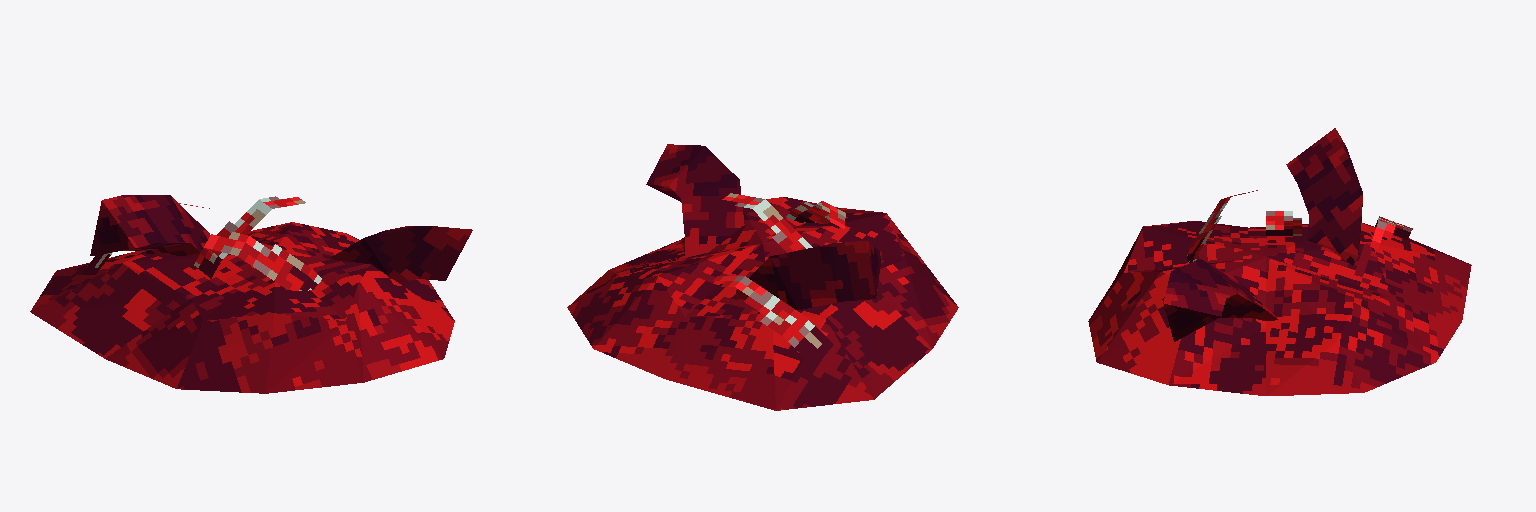
3 renders of one model, left to right at view 1: azimuth 30°, elevation 25°; view 2: azimuth 150°, elevation 25°; view 3: azimuth 270°, elevation 25°, orthographic.
Parts seen in each view (by area): view 1: cylinder, plane; view 2: cylinder, plane; view 3: cylinder, plane.
Boxes of the visible parts, x1=… form: cylinder: x1=30, y1=195, x2=472, y2=393; plane: x1=82, y1=196, x2=321, y2=290; cylinder: x1=567, y1=144, x2=958, y2=410; plane: x1=713, y1=193, x2=845, y2=366; cylinder: x1=1088, y1=128, x2=1471, y2=395; plane: x1=1187, y1=190, x2=1412, y2=262.
Size of the model in its own units: 1.35 by 0.5144 by 1.35.
1 materials, 1 textured.